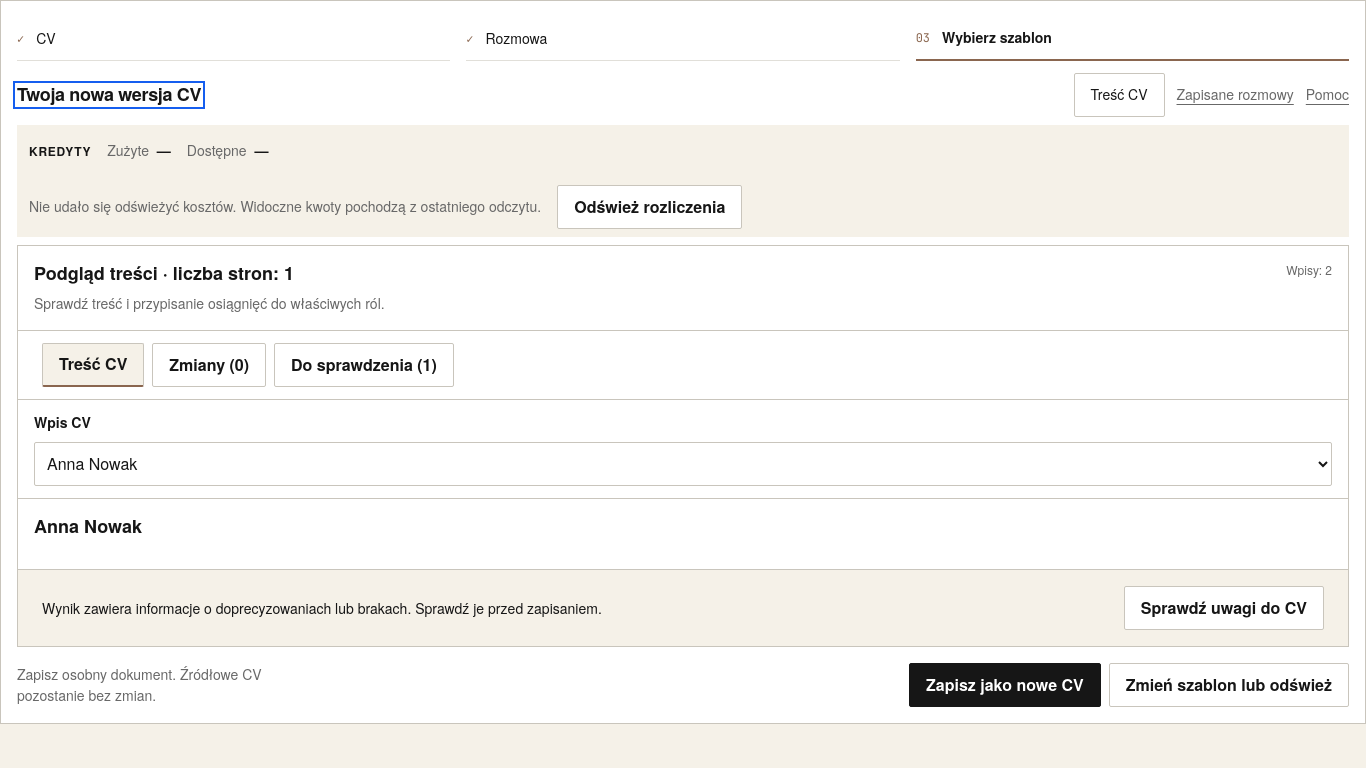
Test: keeps saving available when verification returns only wording advice
expect the button "Zapisz jako nowe CV" is enabled: met, box [909, 663, 1101, 707]
What coordinates should you click on to do the following:
click the button "Do sprawdzenia (1)"
I would click on:
 (364, 365)
Its box is [274, 343, 454, 387].
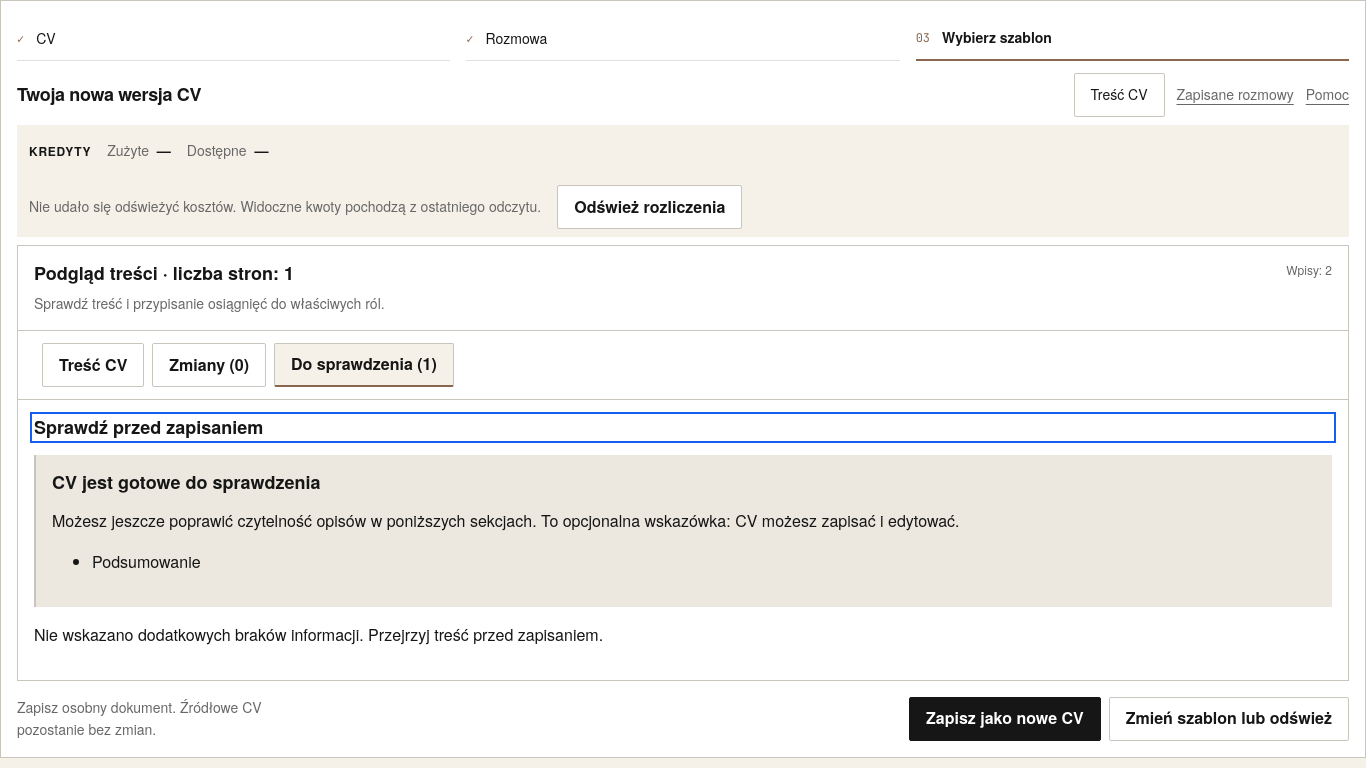
expect the button "Zapisz jako nowe CV" is enabled: met, box [909, 697, 1101, 741]
expect the text "To opcjonalna wskazówka" is shown: met, box [52, 509, 960, 532]
